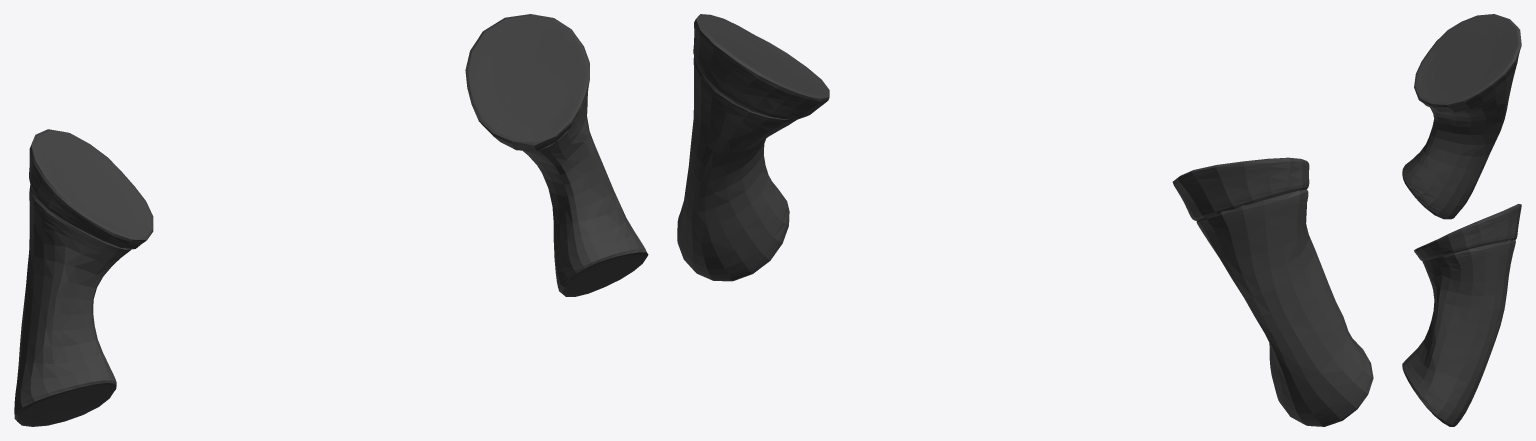
Rendered from hyoid_keratohyoid_LO.glb.
3 views of the same model, side by side, from view 1: azimuth 30°, elevation 25°; view 2: azimuth 150°, elevation 25°; view 3: azimuth 270°, elevation 25° (orthographic). The views are drawn at different scales.
Parts seen in each view (by area): view 1: hyoid_keratohyoid_LO; view 2: hyoid_keratohyoid_LO; view 3: hyoid_keratohyoid_LO.
Boxes of the visible parts, <box> form: hyoid_keratohyoid_LO: <box>14,14,648,426</box>; hyoid_keratohyoid_LO: <box>677,14,1373,426</box>; hyoid_keratohyoid_LO: <box>1402,14,1521,426</box>.
Bounding box in the file's own units: 0.3386 × 0.1337 × 0.0707.
Materials: 1 (1 with a texture image).
